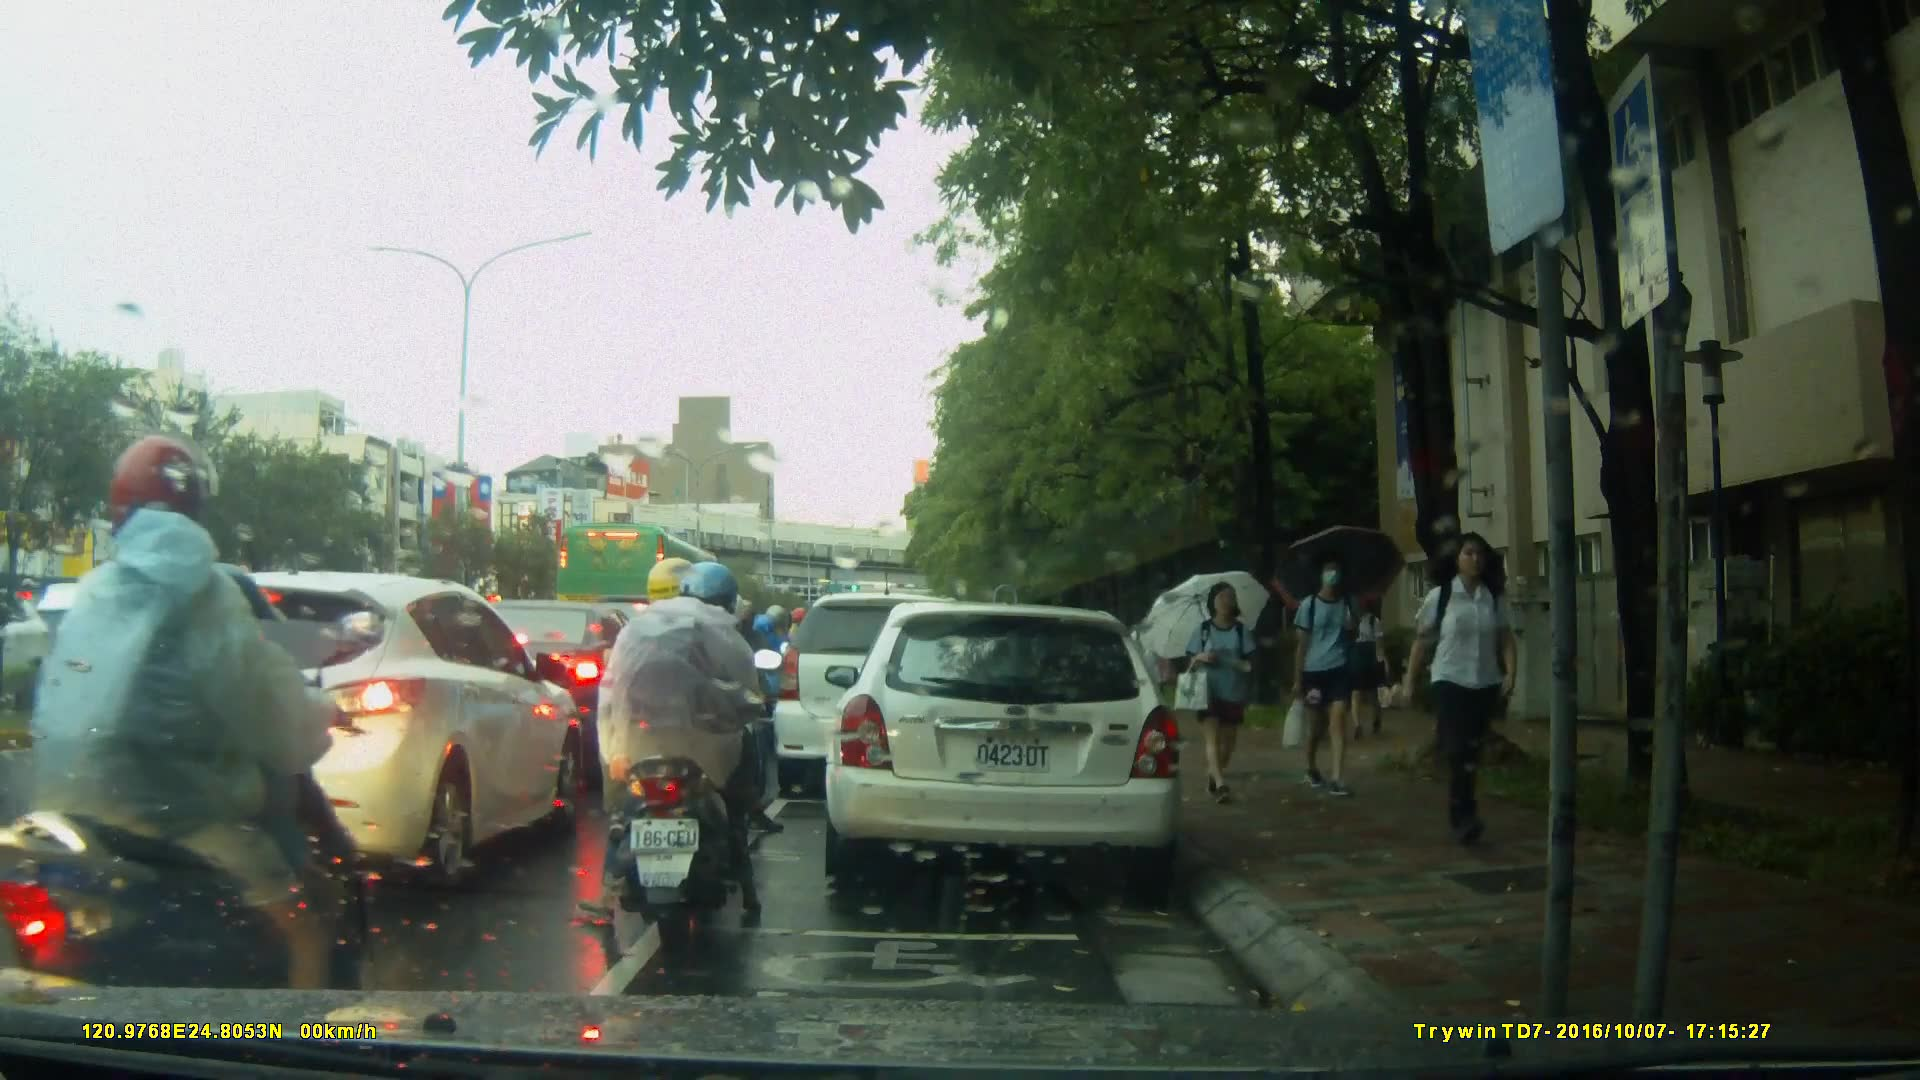pedestrian: (1407, 526, 1529, 855), (1282, 549, 1367, 802), (1183, 577, 1261, 808), (1132, 603, 1174, 742)
rider: (1, 433, 391, 1054), (579, 557, 782, 933), (650, 582, 760, 828)
vehicle: (93, 569, 587, 883), (822, 604, 1186, 882), (774, 595, 995, 802), (554, 519, 739, 666)
